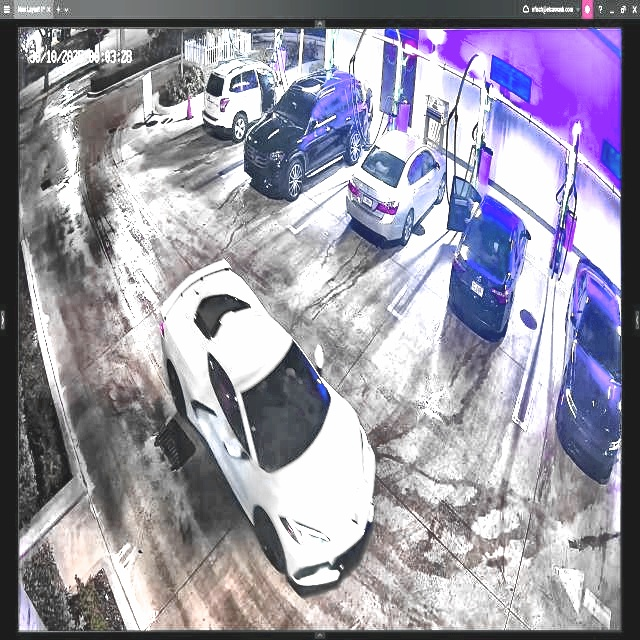Car: (164, 258, 378, 590), (245, 71, 370, 197), (451, 173, 531, 348), (349, 129, 447, 244)
